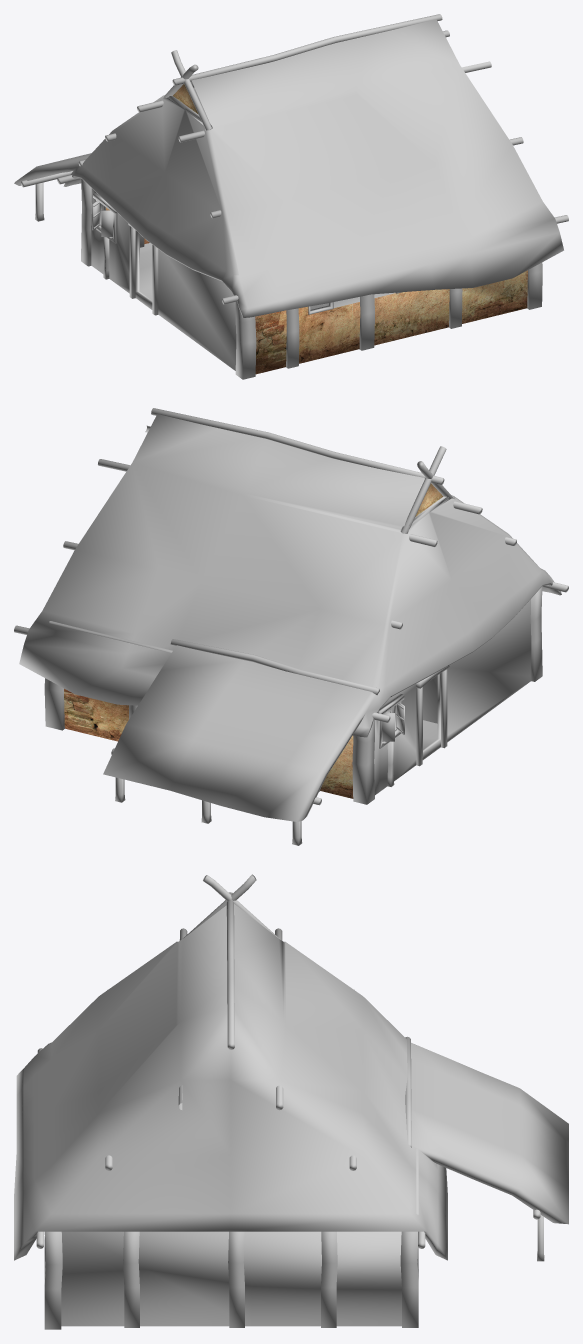
The model's file is KeepBuildingA.fbx.
3 renders of one model, top to bottom at view 1: azimuth 30°, elevation 25°; view 2: azimuth 150°, elevation 25°; view 3: azimuth 270°, elevation 25°, orthographic. The views are drawn at different scales.
Visible parts, largest first — view 1: KeepBuildingA_Roof, KeepBuildingAwalls, KeepBuildingA_OutsideBeams, KeepBuildingA_RoofRounds, KeepBuildingA_RoofSupports, keepBuildingA_Shutters; view 2: KeepBuildingA_Roof, KeepBuildingAwalls, KeepBuildingA_OutsideBeams, KeepBuildingA_RoofRounds, KeepBuildingA_RoofSupports, Group10_Form158, KeepBuildingAInsideFeatures, keepBuildingA_Shutters; view 3: KeepBuildingA_Roof, KeepBuildingAwalls, KeepBuildingA_OutsideBeams, KeepBuildingA_RoofRounds, KeepBuildingA_RoofSupports.
Boxes of the visible parts, x1,y1,x2,y2 form: KeepBuildingA_Roof: (14,19,563,317); KeepBuildingAwalls: (91,188,527,374); KeepBuildingA_OutsideBeams: (81,94,542,379); KeepBuildingA_RoofRounds: (163,14,449,130); KeepBuildingA_RoofSupports: (21,30,568,304); keepBuildingA_Shutters: (92,201,112,236); KeepBuildingA_Roof: (19,414,561,821); KeepBuildingAwalls: (64,599,531,798); KeepBuildingA_OutsideBeams: (44,478,542,804); KeepBuildingA_RoofRounds: (100,408,453,533); KeepBuildingA_RoofSupports: (14,425,568,805); Group10_Form158: (115,777,302,845); KeepBuildingAInsideFeatures: (388,675,437,723); keepBuildingA_Shutters: (382,702,404,741); KeepBuildingA_Roof: (14,904,568,1260); KeepBuildingAwalls: (61,1231,401,1326); KeepBuildingA_OutsideBeams: (44,1149,418,1329); KeepBuildingA_RoofRounds: (183,874,283,1110); KeepBuildingA_RoofSupports: (36,928,540,1248).
Size of the model in its own units: 505 by 363 by 611.
